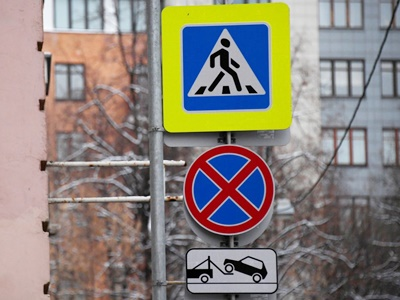crosswalk: (186, 28, 269, 106)
